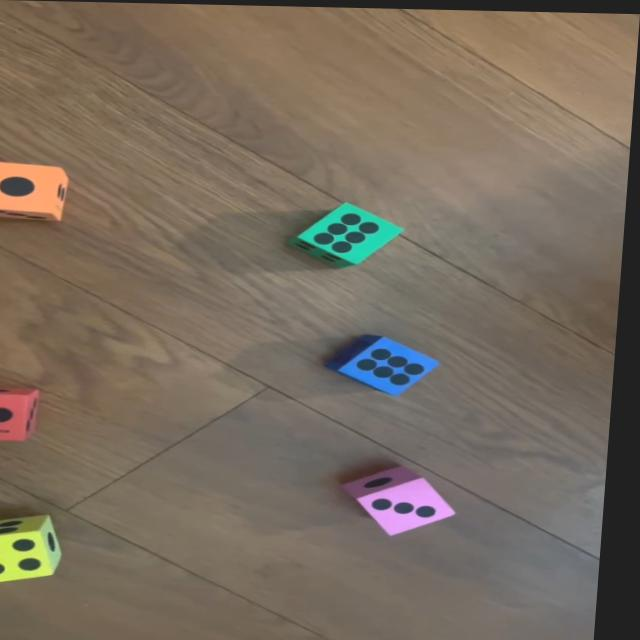blue_block: (326, 331, 452, 398)
red_block: (0, 388, 47, 442)
